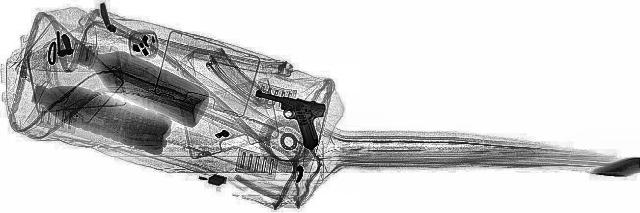Gun: (250, 87, 352, 151)
